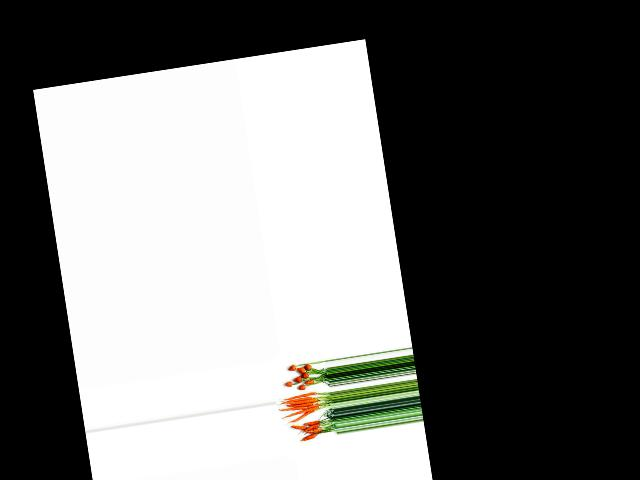carrot: (285, 364, 296, 373)
